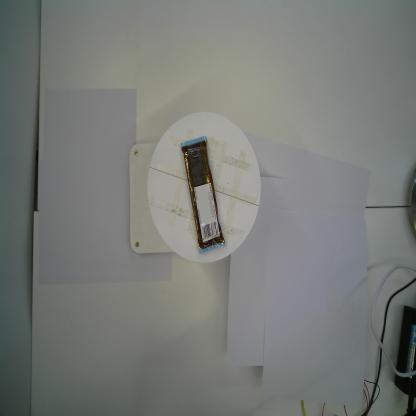Chocolate: (181, 135, 225, 254)
